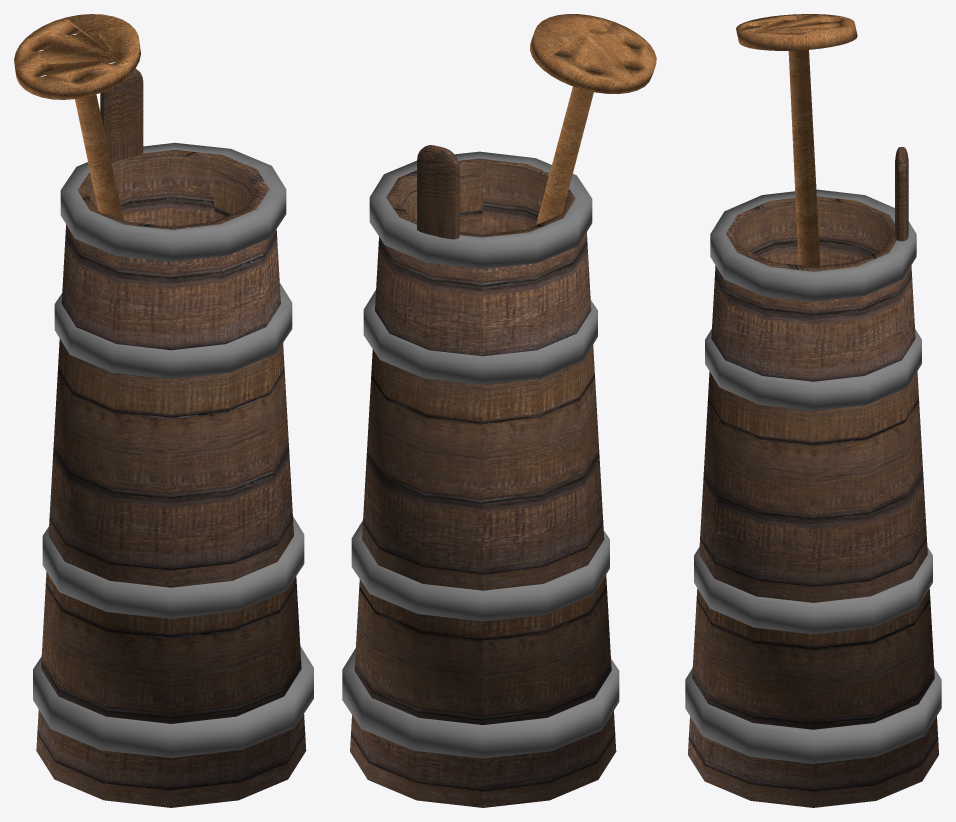
Rendered from butalo.fbx.
3 views of the same model, side by side, from view 1: azimuth 30°, elevation 25°; view 2: azimuth 150°, elevation 25°; view 3: azimuth 270°, elevation 25° (orthographic). The views are drawn at different scales.
Visible parts, largest first — view 1: Circle.002, Circle.003, Cylinder.007, Plane.019; view 2: Circle.002, Circle.003, Cylinder.007, Plane.019; view 3: Circle.002, Circle.003, Cylinder.007, Plane.019.
Part boxes in pixels (x1=…): Circle.002: x1=36, y1=150, x2=306, y2=807; Circle.003: x1=33, y1=142, x2=313, y2=757; Cylinder.007: x1=14, y1=14, x2=140, y2=219; Plane.019: x1=100, y1=68, x2=143, y2=161; Circle.002: x1=350, y1=158, x2=616, y2=807; Circle.003: x1=342, y1=151, x2=619, y2=758; Cylinder.007: x1=530, y1=14, x2=656, y2=224; Plane.019: x1=417, y1=145, x2=459, y2=239; Circle.002: x1=688, y1=196, x2=938, y2=807; Circle.003: x1=685, y1=189, x2=941, y2=763; Cylinder.007: x1=736, y1=14, x2=857, y2=266; Plane.019: x1=895, y1=147, x2=908, y2=241.
Bounding box in the file's own units: 59.28 × 150 × 50.01.
